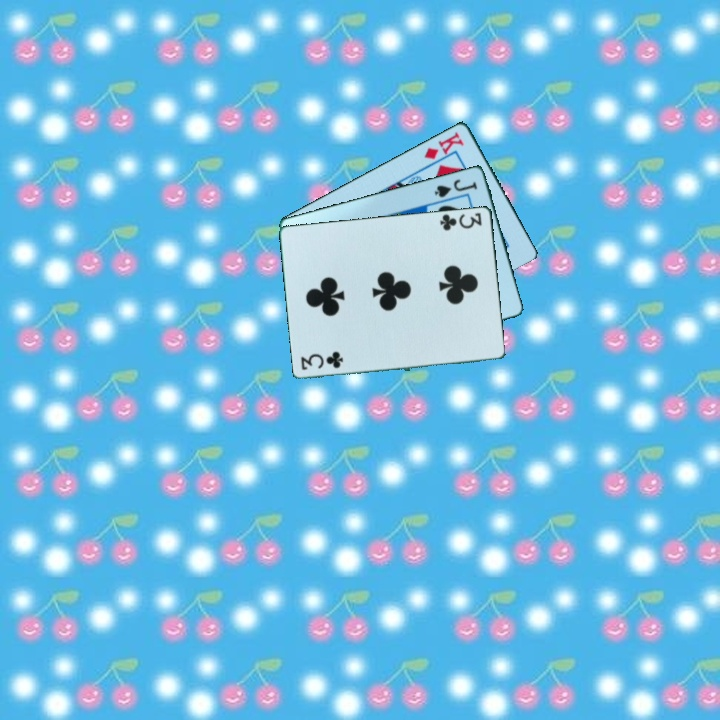3c: (436, 209, 485, 233), (297, 352, 346, 372)
Js: (431, 175, 480, 200)
Kd: (420, 128, 467, 162)
